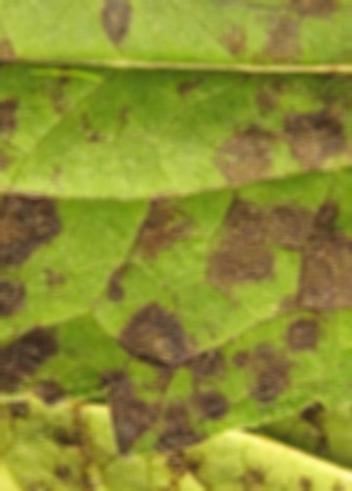Tomato Septoria leaf spot: (0, 0, 352, 437), (0, 243, 352, 491)
